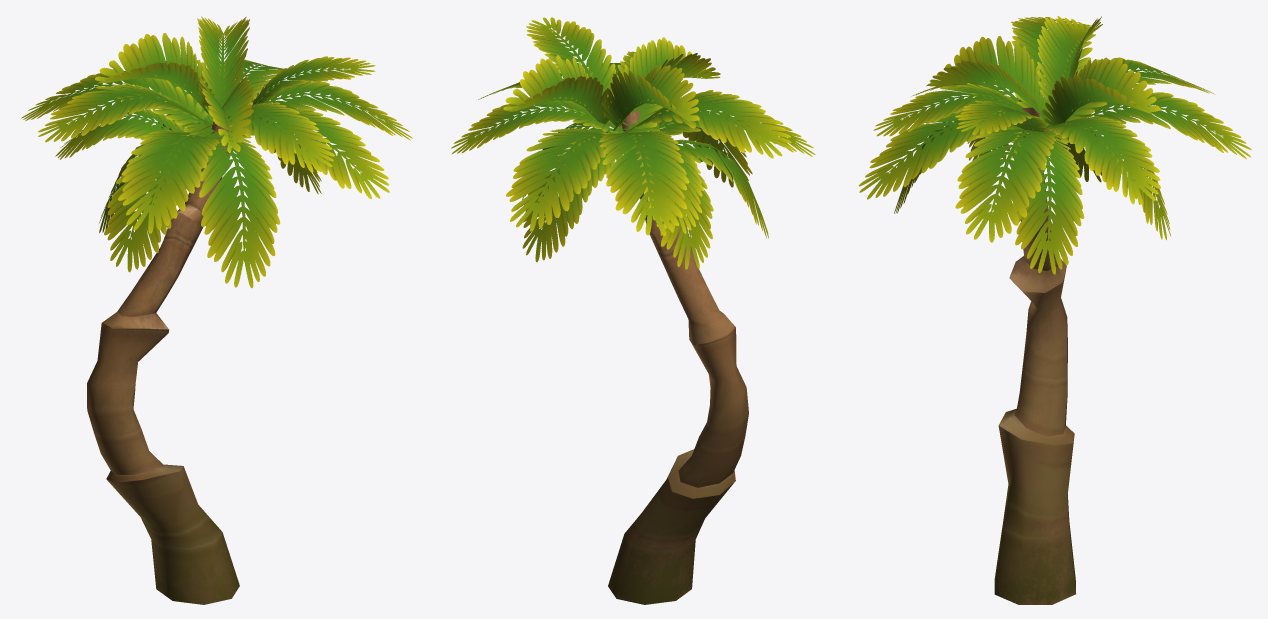
File: PalmTree02_M.fbx
3 views of the same model, side by side, from view 1: azimuth 30°, elevation 25°; view 2: azimuth 150°, elevation 25°; view 3: azimuth 270°, elevation 25° (orthographic). The views are drawn at different scales.
Visible parts, largest first — view 1: PalmTree02_M; view 2: PalmTree02_M; view 3: PalmTree02_M.
Part boxes in pixels (box(x1,y1,x2,y2)): PalmTree02_M: box(21, 16, 412, 604); PalmTree02_M: box(451, 17, 815, 604); PalmTree02_M: box(858, 16, 1251, 604).
Size of the model in its own units: 519 by 775 by 507.
2 materials, 2 textured.
